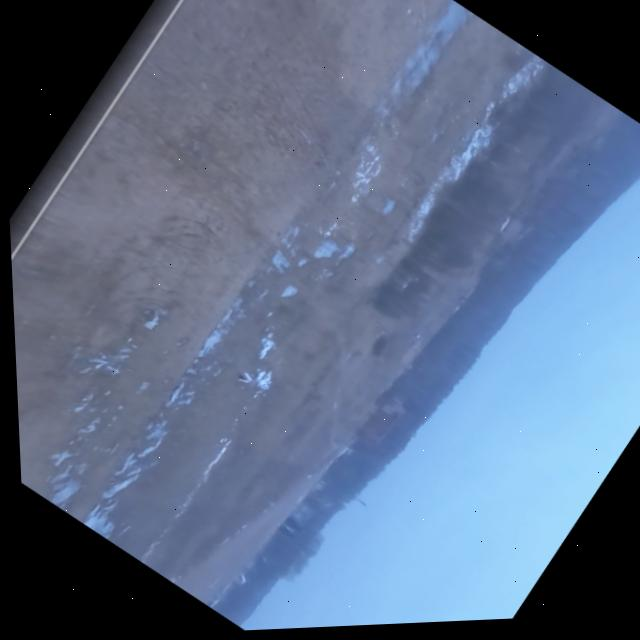planedrone: (405, 327, 424, 349)
